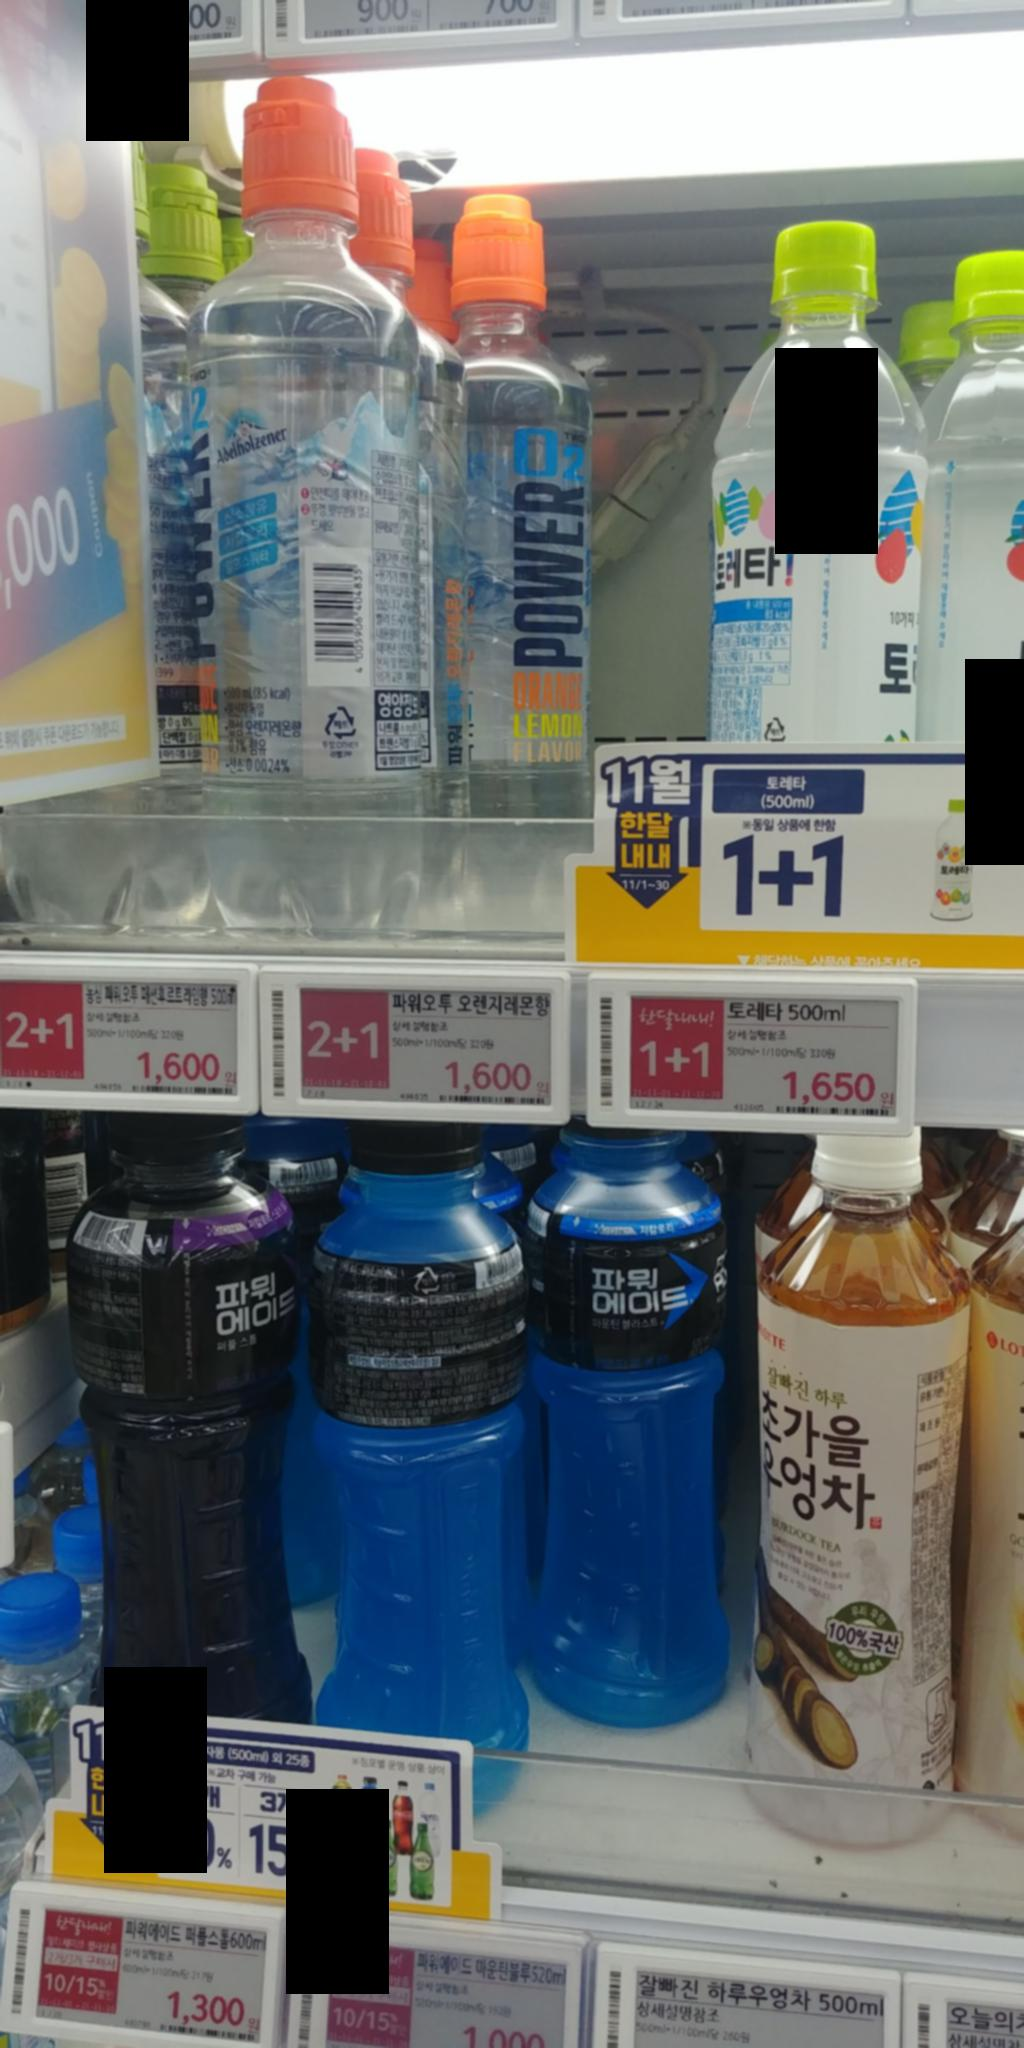powerO2_orange: (196, 78, 440, 942), (398, 178, 605, 943)
toreta: (294, 1113, 543, 1804), (528, 1113, 742, 1735), (697, 199, 934, 744)
